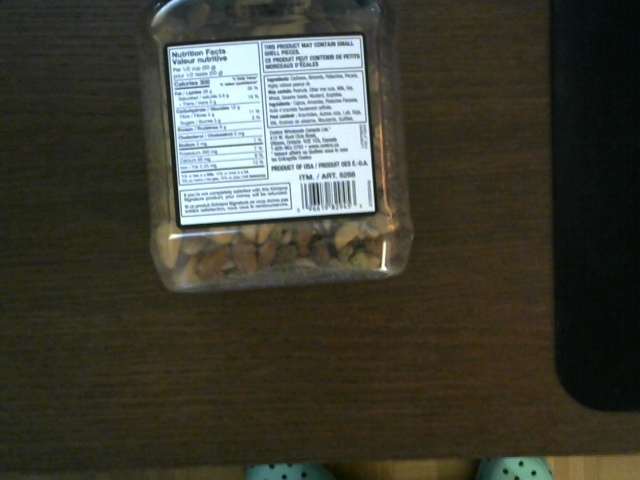Barcode: (298, 179, 358, 211)
